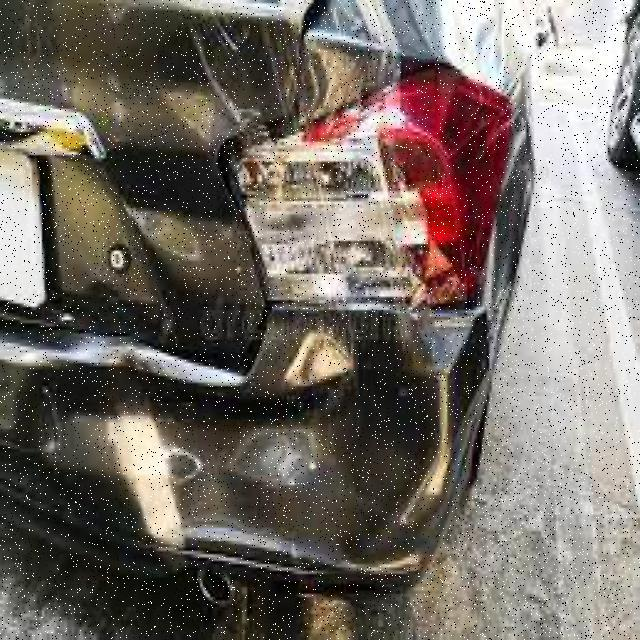Taillight-Damage: (225, 60, 512, 301)
rear-bumper-dent: (0, 327, 494, 594)
